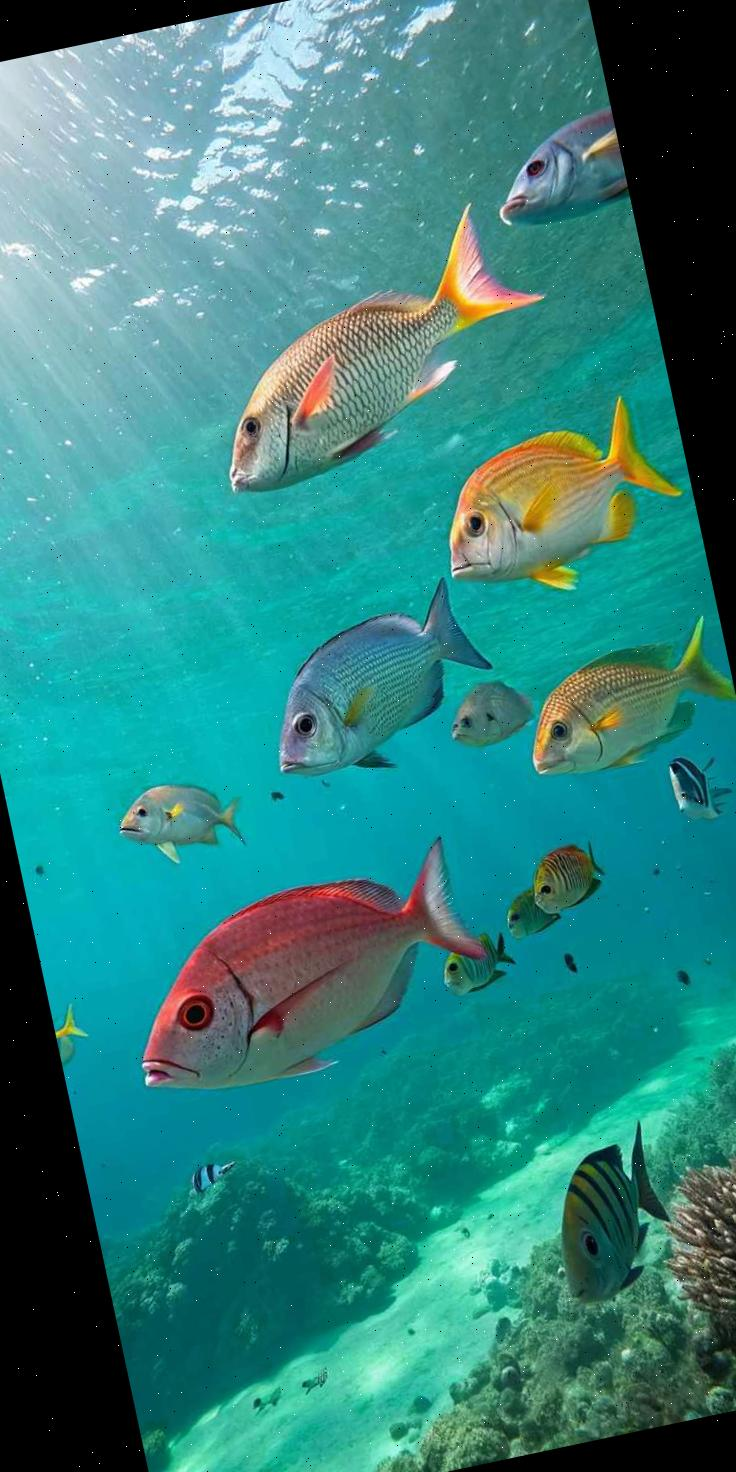fish: (182, 194, 564, 500), (107, 834, 503, 1108), (418, 386, 693, 616), (250, 574, 505, 789), (510, 613, 736, 785), (535, 1118, 682, 1308), (485, 108, 632, 236), (112, 770, 248, 874), (442, 670, 538, 751), (524, 835, 612, 916), (664, 748, 736, 827), (435, 931, 517, 1000), (501, 886, 564, 942), (182, 1157, 242, 1197), (49, 1002, 88, 1044)
